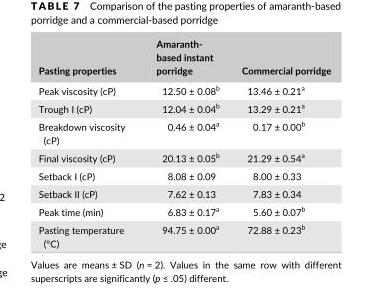table: (37, 37, 330, 248)
table column: (37, 37, 141, 248), (229, 37, 330, 248), (141, 37, 229, 248)
table column header: (37, 37, 330, 79)
table row: (37, 37, 330, 79), (37, 116, 330, 147), (37, 219, 330, 248), (37, 79, 330, 98), (37, 147, 330, 166), (37, 98, 330, 116), (37, 166, 330, 184), (37, 201, 330, 219), (37, 184, 330, 201)
